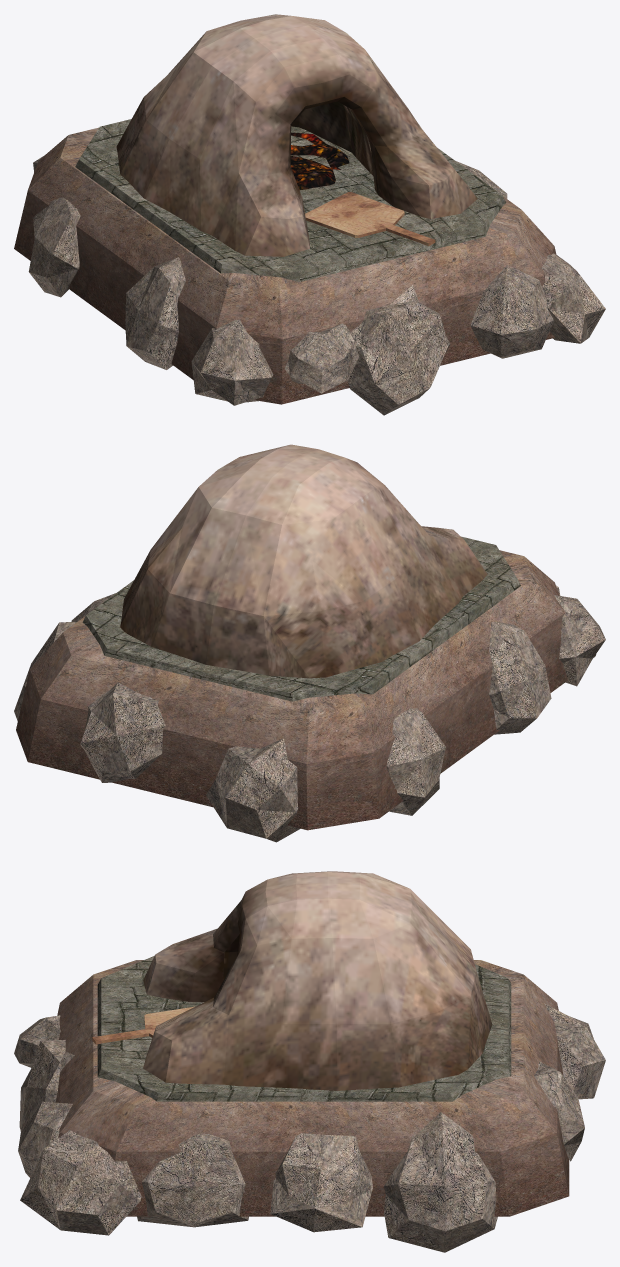
The model's file is thm_dant_mud_oven_l0.fbx.
3 renders of one model, top to bottom at view 1: azimuth 30°, elevation 25°; view 2: azimuth 150°, elevation 25°; view 3: azimuth 270°, elevation 25°, orthographic.
Parts seen in each view (by area): view 1: mesh_node; view 2: mesh_node; view 3: mesh_node.
Boxes of the visible parts, bbox=[...] form: mesh_node: bbox=[14, 14, 605, 415]; mesh_node: bbox=[14, 444, 605, 842]; mesh_node: bbox=[14, 871, 605, 1252].
Bounding box in the file's own units: 4.26 × 2.64 × 5.11.
